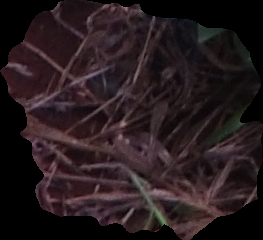soil: (3, 3, 261, 237)
